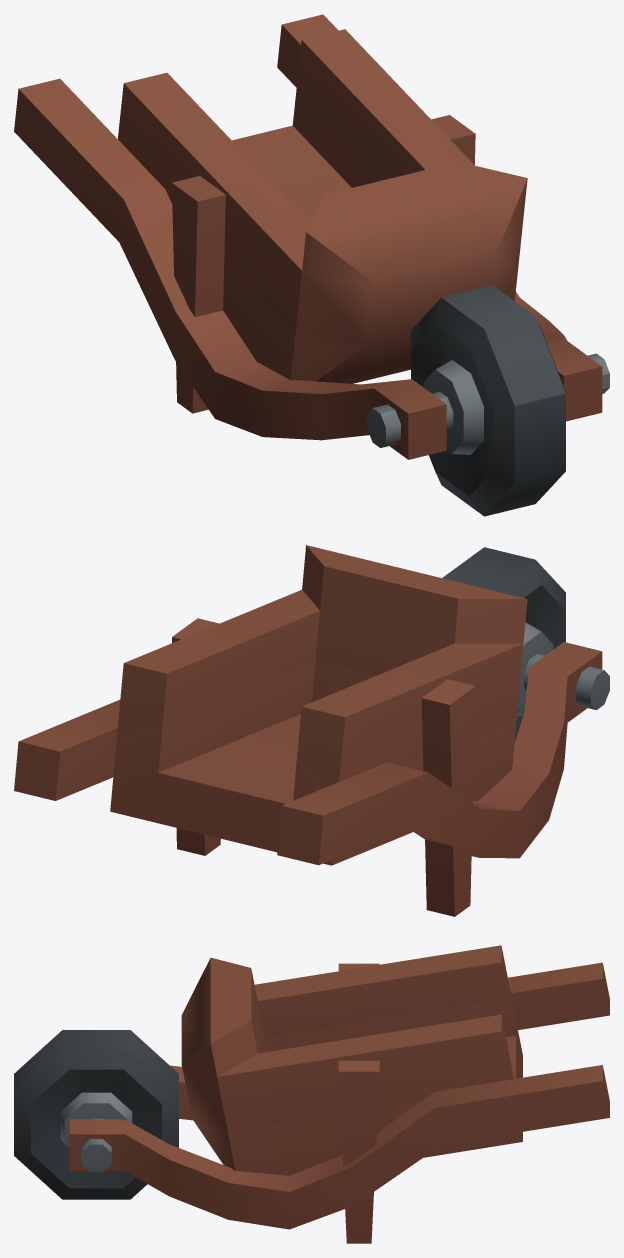
Rendered from H_wheelbarrow.glb.
3 renders of one model, top to bottom at view 1: azimuth 30°, elevation 25°; view 2: azimuth 150°, elevation 25°; view 3: azimuth 270°, elevation 25°, orthographic. The views are drawn at different scales.
Parts seen in each view (by area): view 1: wheelbarrow; view 2: wheelbarrow; view 3: wheelbarrow.
Boxes of the visible parts, box(x1,y1,x2,y2) form: wheelbarrow: box(14, 14, 609, 516); wheelbarrow: box(14, 545, 609, 916); wheelbarrow: box(14, 945, 609, 1243).
Size of the model in its own units: 0.238 by 0.1884 by 0.5057.
